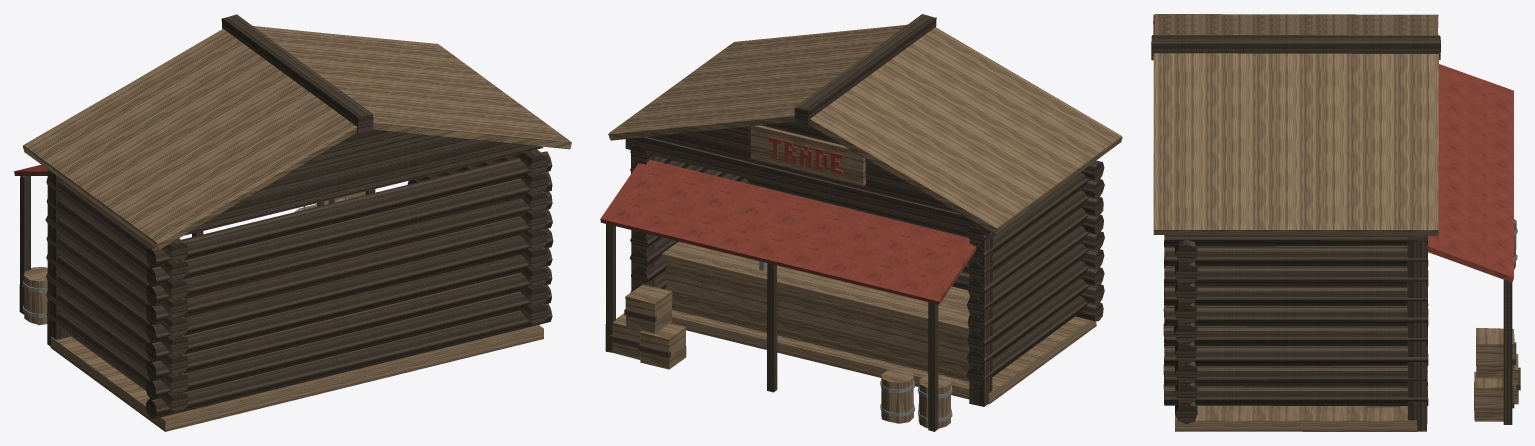
File: trading_post.glb
The picture shows the model from 3 angles, left to right: view 1: azimuth 30°, elevation 25°; view 2: azimuth 150°, elevation 25°; view 3: azimuth 270°, elevation 25°; orthographic projection. The views are drawn at different scales.
Visible parts, largest first — view 1: TradingPost; view 2: TradingPost; view 3: TradingPost.
Boxes of the visible parts, x1,y1,x2,y2 form: TradingPost: (14, 14, 571, 431); TradingPost: (600, 14, 1122, 431); TradingPost: (1151, 14, 1520, 431).
Bounding box in the file's own units: 6.77 × 4.33 × 4.91.
Materials: 4 (4 with a texture image).
